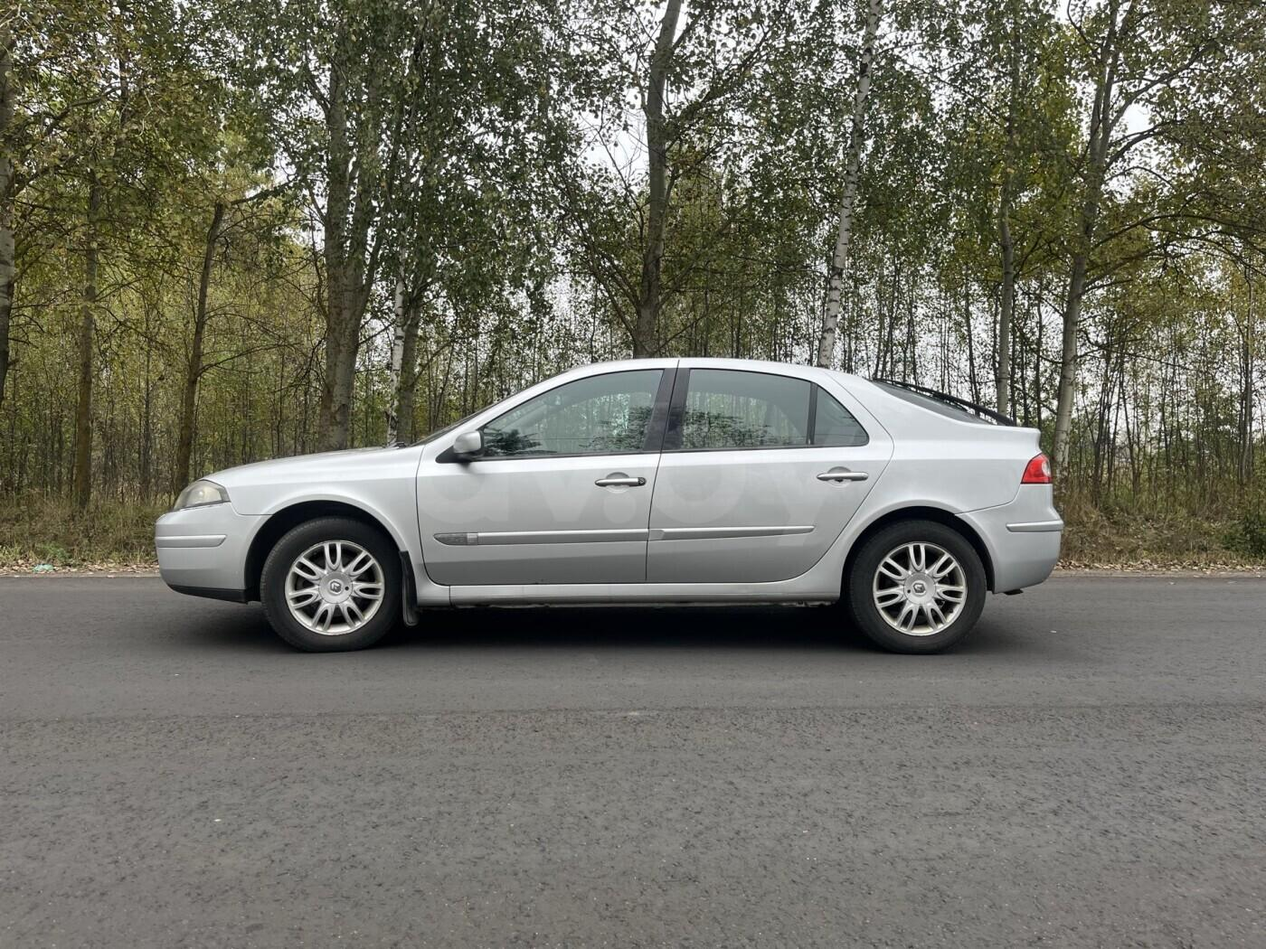Laguna_2005-2007: (150, 356, 1057, 660)
